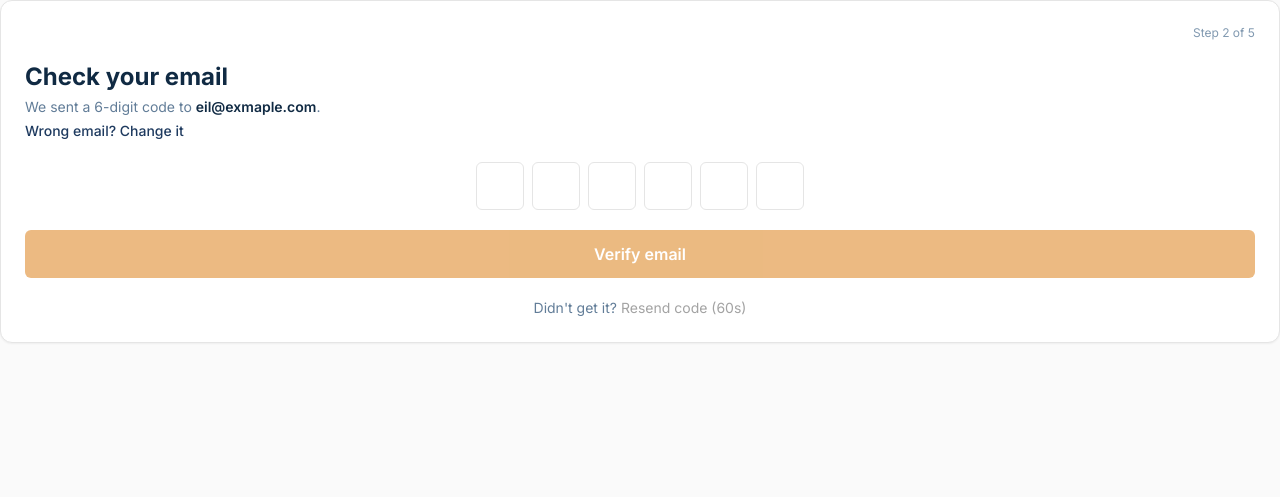
Test: VerifyPage › surfaces a server error when the new email is already taken
Expected: the text "eil@exmaple.com" is shown, [196, 98, 316, 115]
Click the button "Wrong email? Change it": (104, 131) [25, 121, 184, 141]
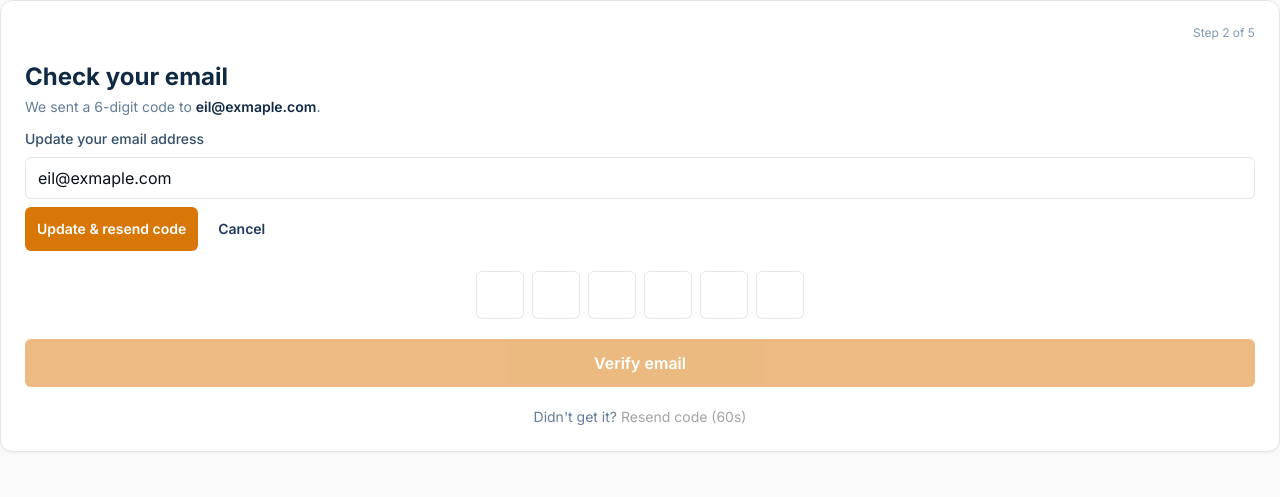
Replace the text in the field labelled "Update your email address" with "taken@example.com": (640, 178) [25, 157, 1255, 199]
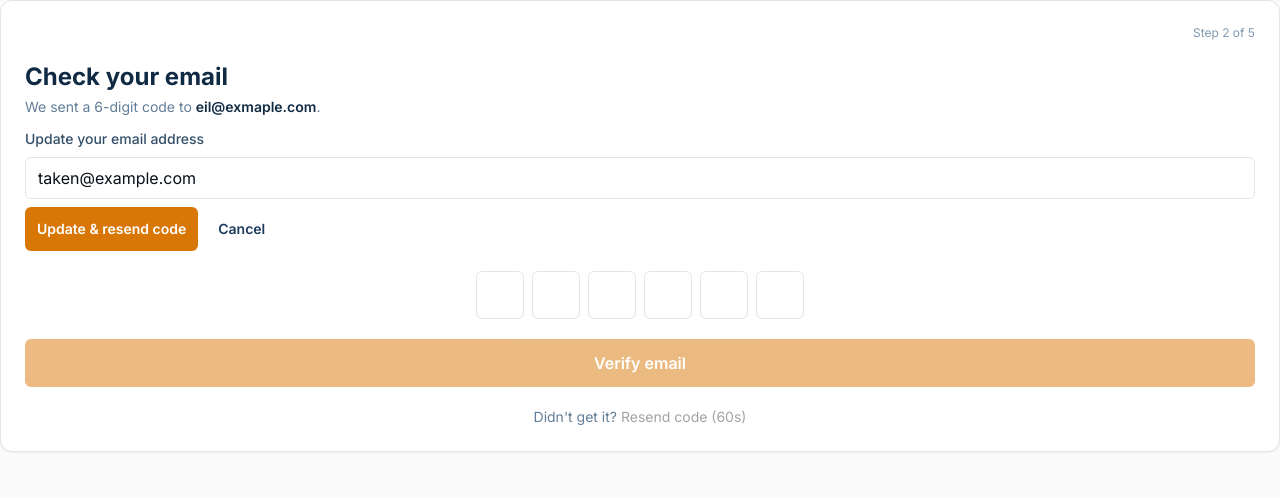
Click the button "Update & resend code": (112, 229) [25, 207, 198, 251]
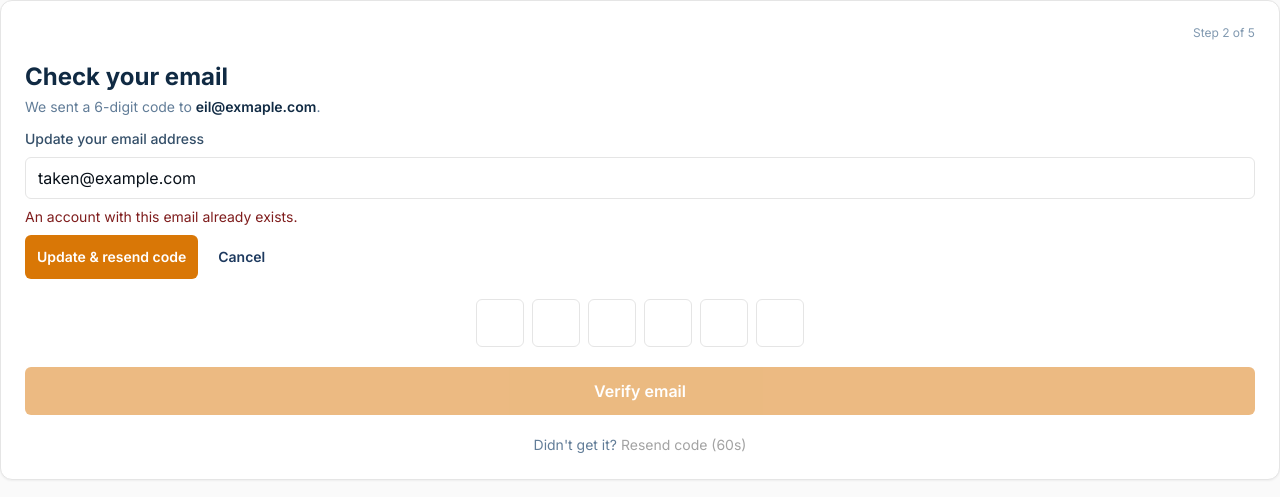
Expected: the text "An account with this email already exists." is shown, [25, 208, 298, 225]
